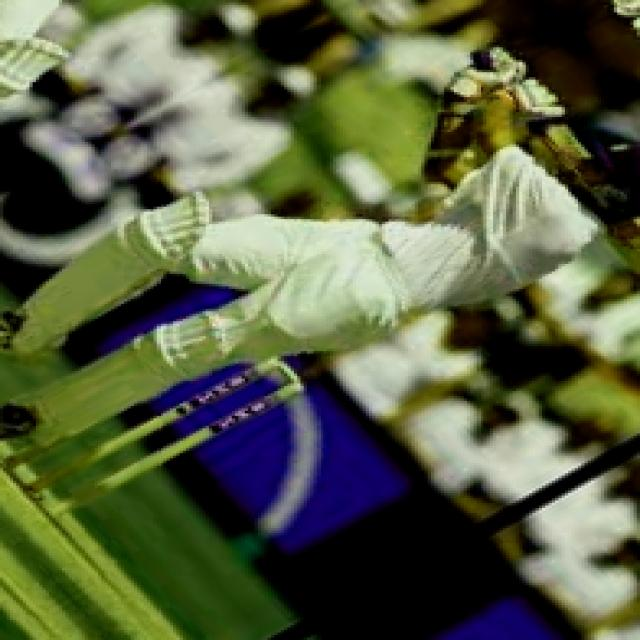toe: (619, 238, 640, 274)
